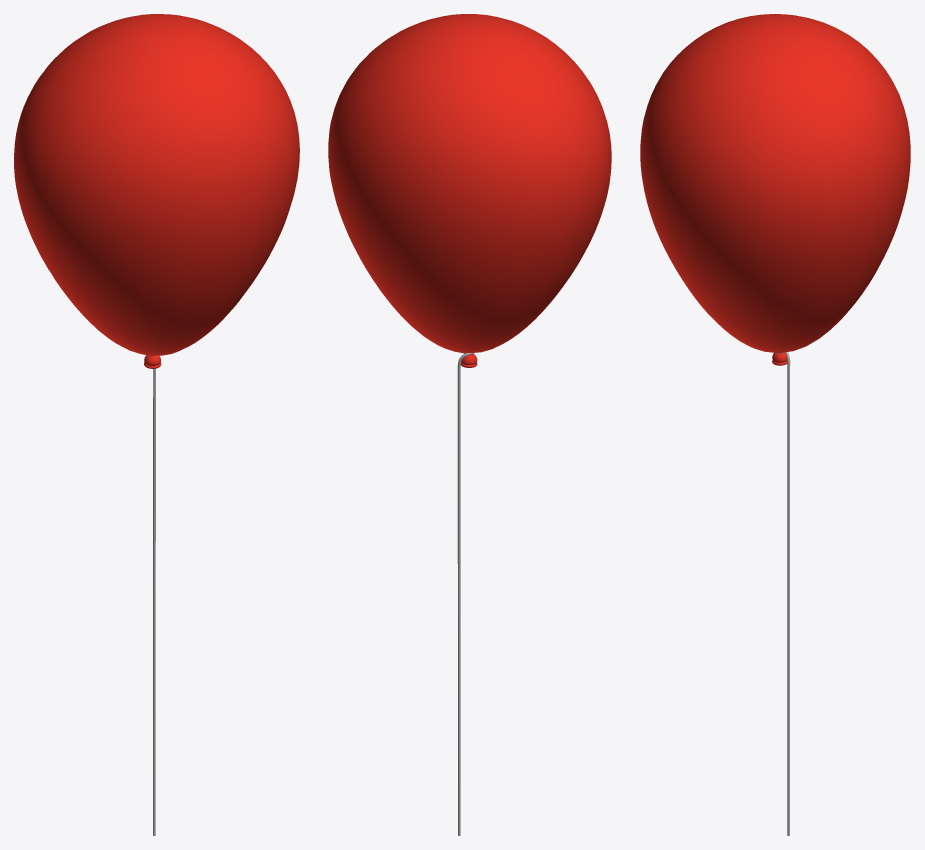
Rendered from Red Balloon.glb.
3 views of the same model, side by side, from view 1: azimuth 30°, elevation 25°; view 2: azimuth 150°, elevation 25°; view 3: azimuth 270°, elevation 25° (orthographic).
Parts seen in each view (by area): view 1: balloon.1; view 2: balloon.1; view 3: balloon.1.
Part boxes in pixels (<box>): balloon.1: <box>14,14,299,835</box>; balloon.1: <box>328,14,611,835</box>; balloon.1: <box>640,14,910,835</box>.
Size of the model in its own units: 0.1987 by 0.6115 by 0.1859.
Materials: 1 (1 with a texture image).
